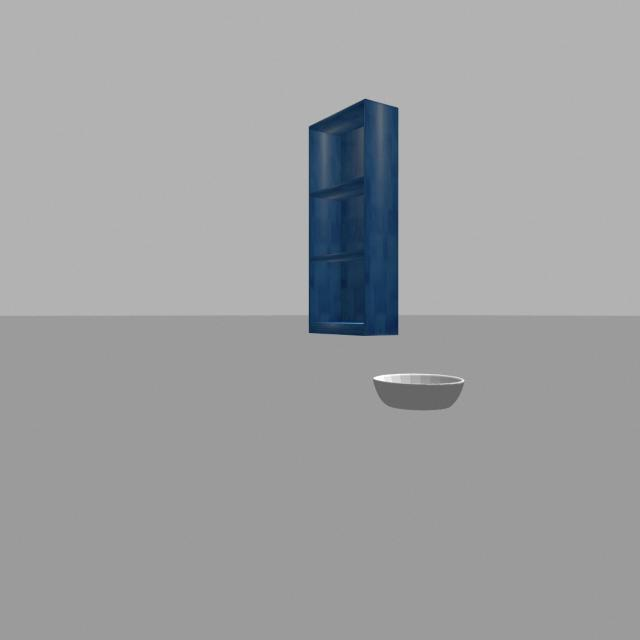bowl: (365, 364, 471, 419)
shelf: (292, 89, 412, 346)
